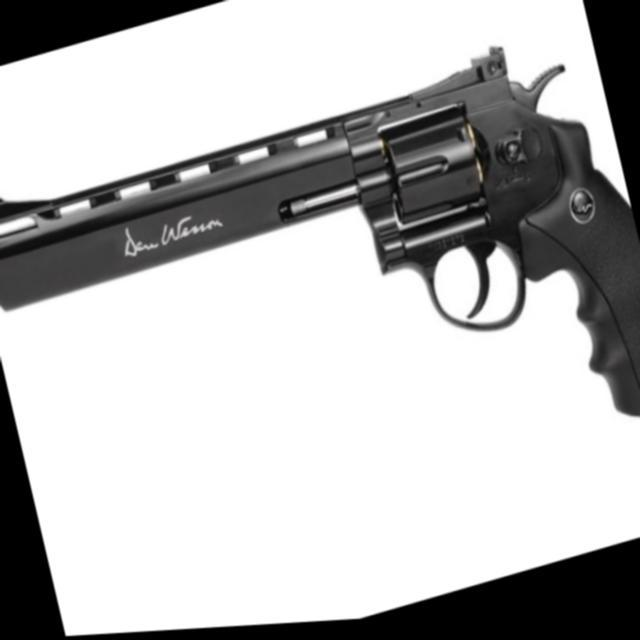weapon: (0, 20, 640, 591)
